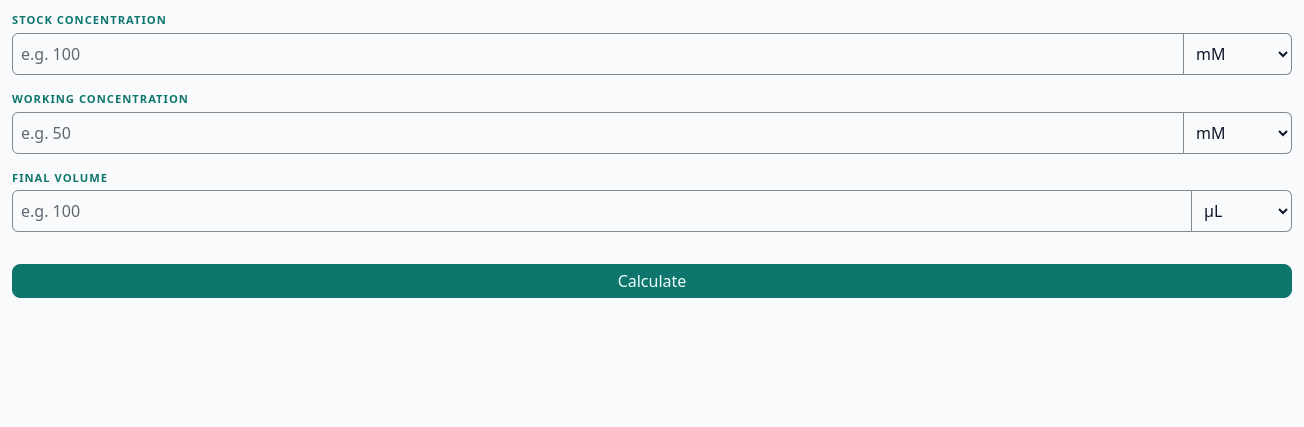
Test: Dilution result live region › renders the result in live region after the calculation
Type "100" into the field named "Stock concentration value". click: (598, 54)
box: [12, 33, 1184, 75]
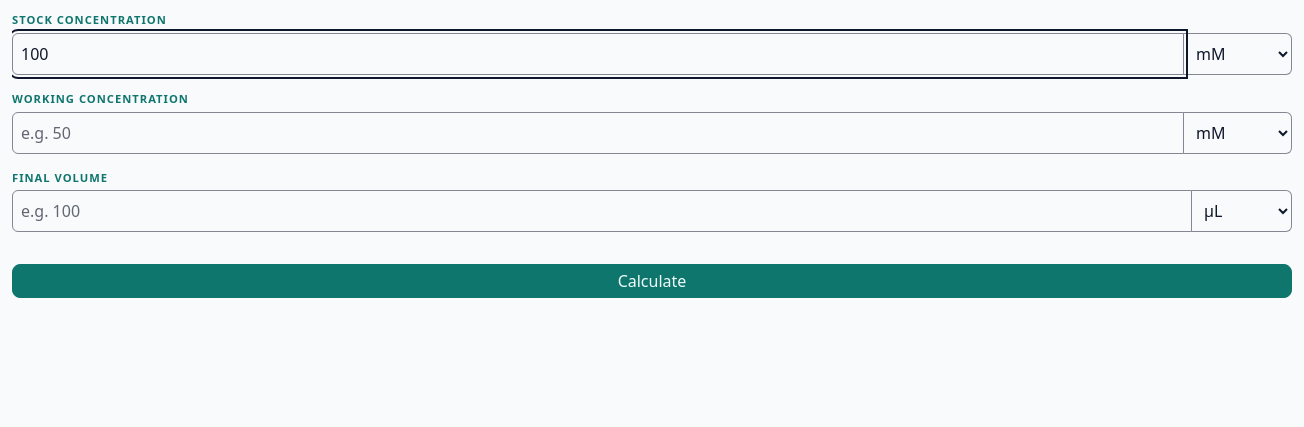
Type "50" into the field named "Working concentration value". click: (598, 133)
box: [12, 112, 1184, 154]
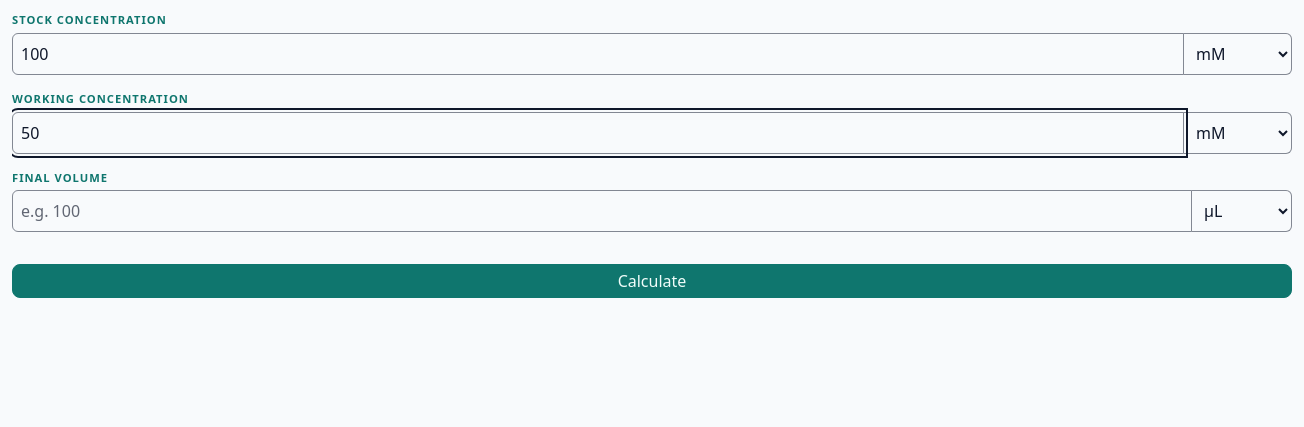
Type "100" into the field named "Final volume value". click: (602, 211)
box: [12, 190, 1192, 232]
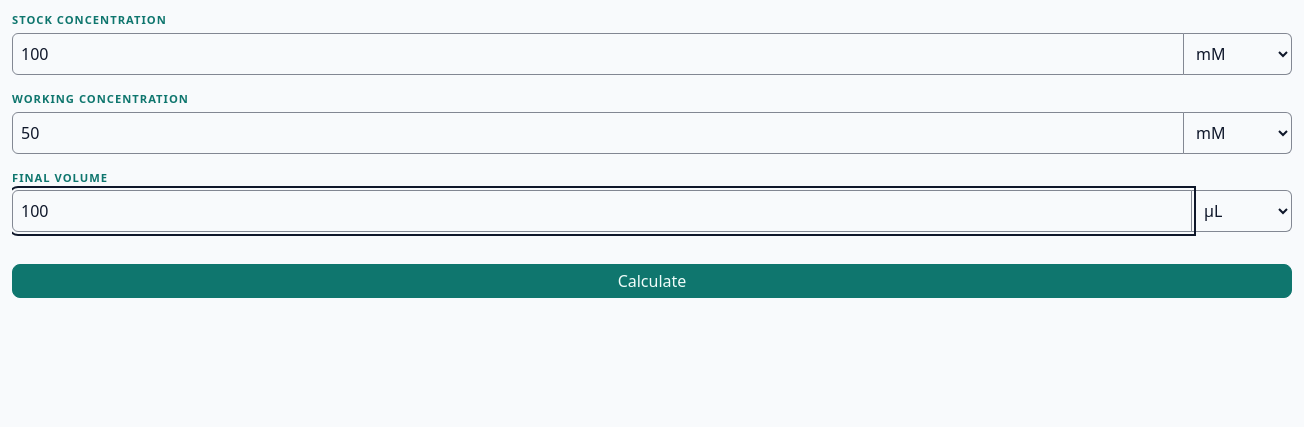
Click the button "Calculate". click: (652, 281)
box: [12, 264, 1292, 298]
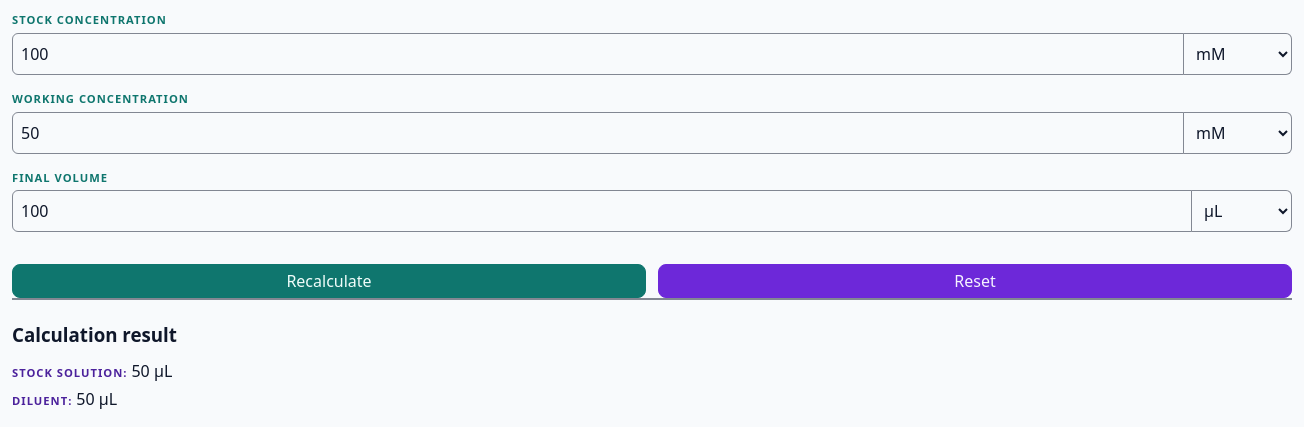
Now the message shows "Stock solution: 50 µL", box [12, 298, 1292, 411]
